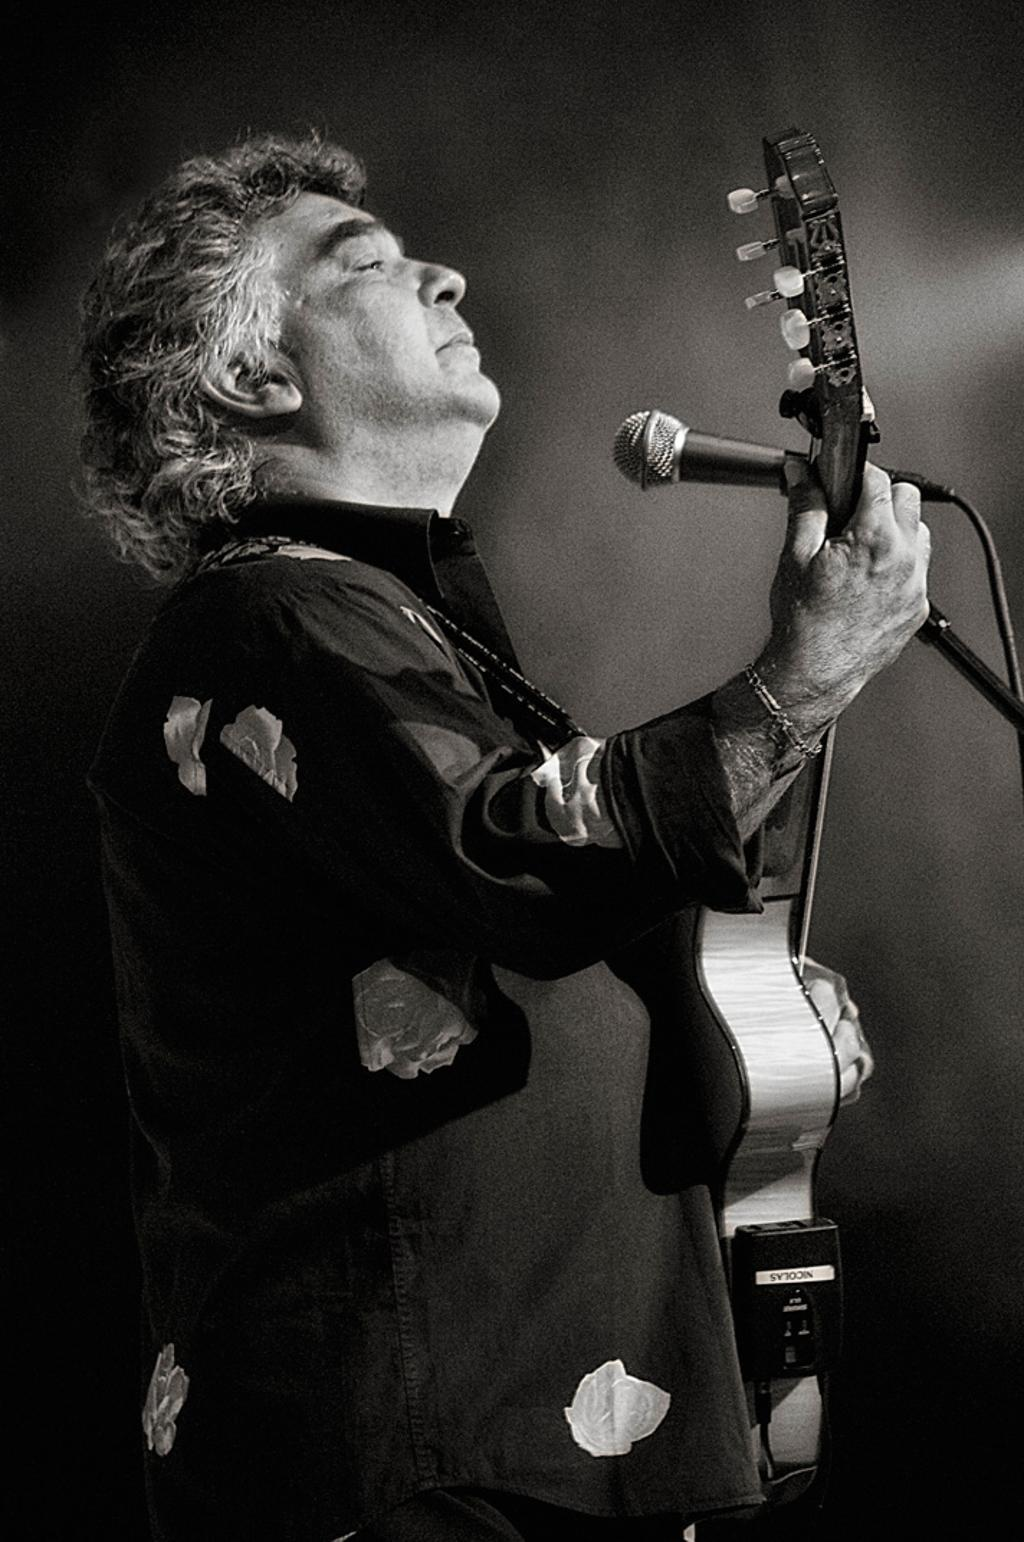face: (278, 197, 504, 459)
